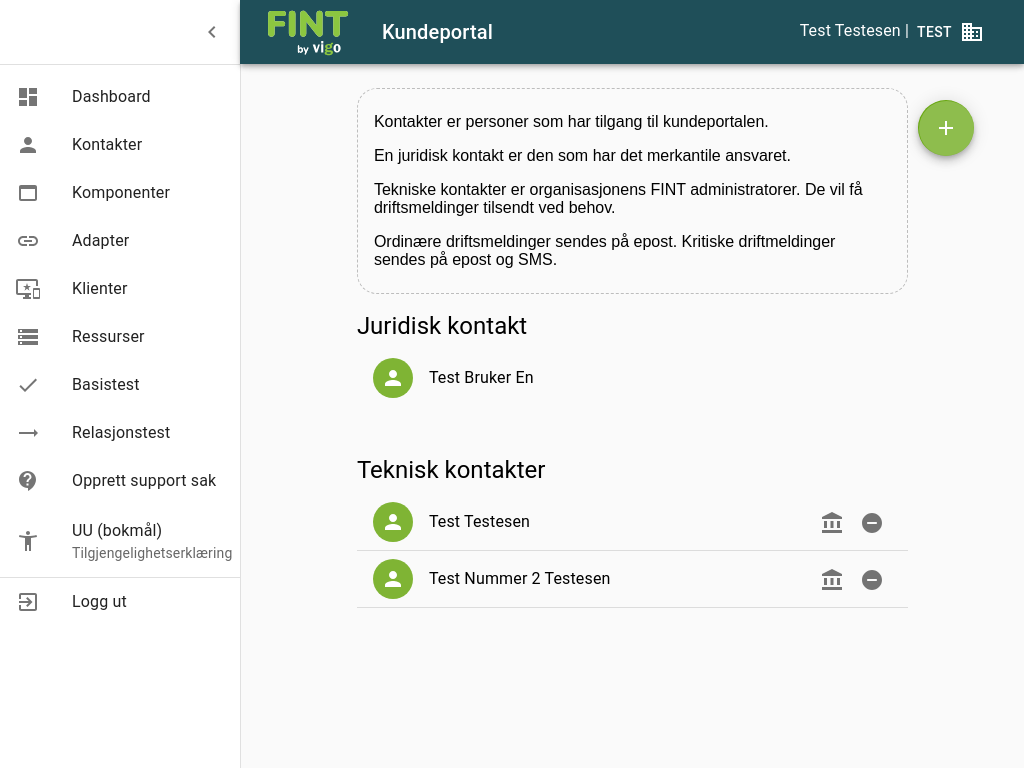
Test: Testing contacts page › Click on remove user should give pop up to confirm
Click the button with id "removeUserButton": click(872, 523) [852,503,892,543]
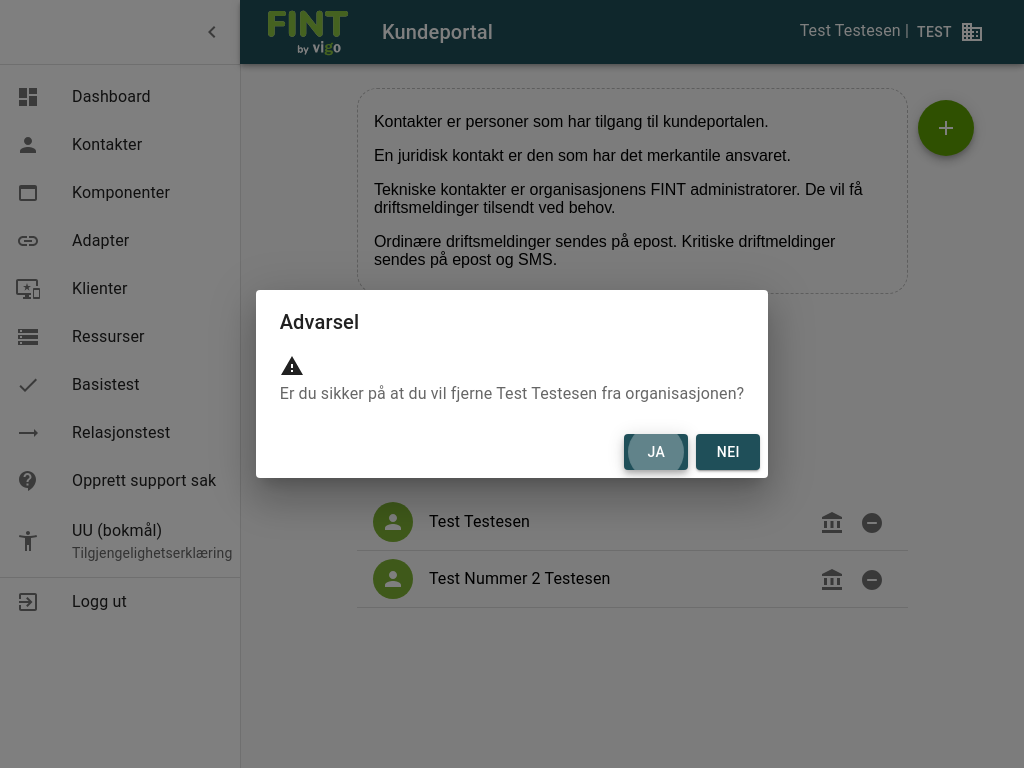
Check: the text with id "warning-dialog-content" is shown, box [280,382,745,406]
